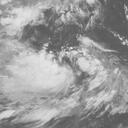cyclone: (18, 46, 113, 110)
